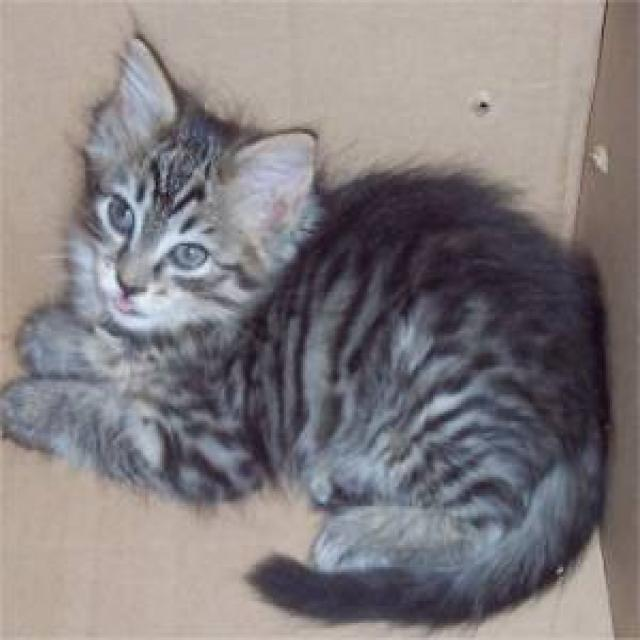Bengal: (81, 34, 318, 329)
